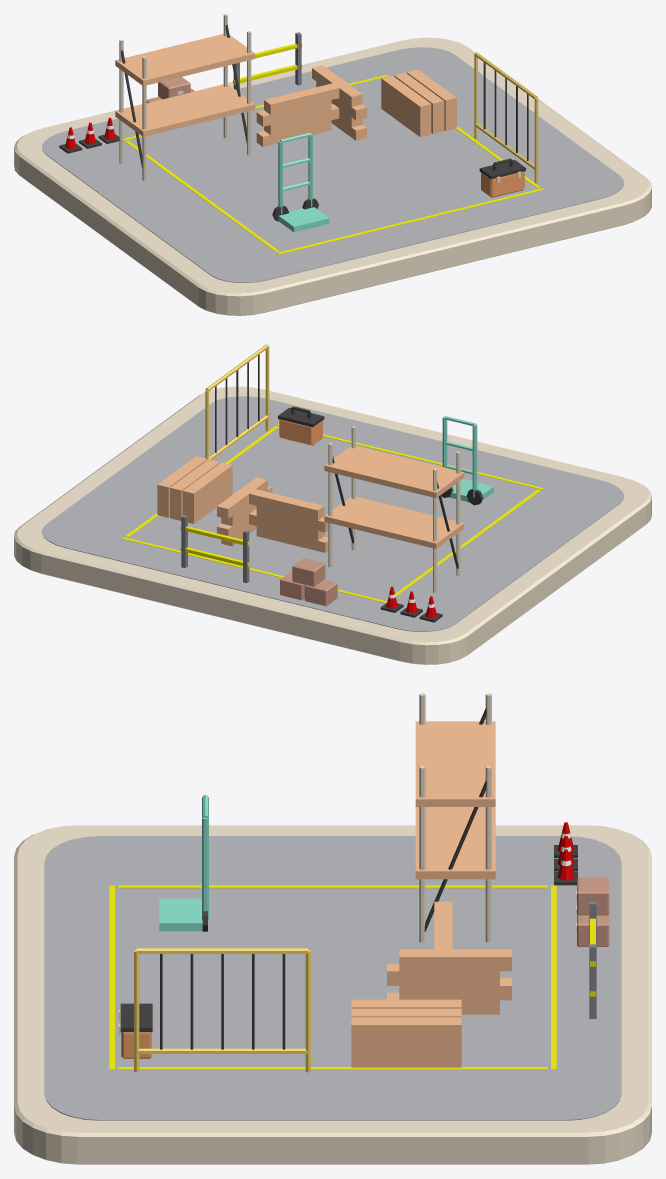
3 renders of one model, top to bottom at view 1: azimuth 30°, elevation 25°; view 2: azimuth 150°, elevation 25°; view 3: azimuth 270°, elevation 25°, orthographic. The views are drawn at different scales.
Visible parts, largest first — view 1: COM-02 Floor Surface, COM-01 Rounded Base Direct, Platform.001, Platform, Timber.006, Loading plate, Box, Work zone end, Timber.007, Timber.008, Work zone stripe, Upright.002 (+6 smaller); view 2: COM-02 Floor Surface, COM-01 Rounded Base Direct, Platform.001, Platform, Timber.006, Box, Stacked case.002, Stacked case, Timber.007, Timber.008, Work zone stripe, Work zone end.001 (+9 smaller); view 3: COM-02 Floor Surface, COM-01 Rounded Base Direct, Platform.001, Platform, Timber.008, Timber.005, Work zone stripe, Timber.002, Loading plate, Work zone stripe.001, Stacked case.002, Timber.006 (+15 smaller).
Part boxes in pixels (bbox=[...]): COM-02 Floor Surface: bbox=[42, 47, 623, 282]; COM-01 Rounded Base Direct: bbox=[14, 37, 651, 315]; Platform.001: bbox=[115, 34, 255, 85]; Platform: bbox=[115, 84, 255, 136]; Timber.006: bbox=[381, 75, 431, 116]; Loading plate: bbox=[278, 207, 329, 232]; Box: bbox=[481, 171, 524, 197]; Work zone end: bbox=[277, 188, 543, 254]; Timber.007: bbox=[394, 72, 444, 113]; Timber.008: bbox=[407, 69, 456, 110]; Work zone stripe: bbox=[125, 140, 279, 252]; Upright.002: bbox=[247, 31, 251, 155]; COM-02 Floor Surface: bbox=[42, 396, 623, 631]; COM-01 Rounded Base Direct: bbox=[14, 386, 651, 664]; Platform.001: bbox=[324, 446, 464, 498]; Platform: bbox=[324, 496, 464, 548]; Timber.006: bbox=[182, 462, 232, 503]; Box: bbox=[279, 419, 322, 445]; Stacked case.002: bbox=[292, 558, 325, 586]; Stacked case: bbox=[304, 579, 337, 606]; Timber.007: bbox=[170, 459, 219, 500]; Timber.008: bbox=[157, 456, 207, 497]; Work zone stripe: bbox=[387, 489, 540, 600]; Work zone end.001: bbox=[122, 537, 387, 603]; COM-02 Floor Surface: bbox=[44, 836, 621, 1120]; COM-01 Rounded Base Direct: bbox=[14, 825, 651, 1164]; Platform.001: bbox=[415, 721, 495, 806]; Platform: bbox=[415, 807, 495, 879]; Timber.008: bbox=[351, 1017, 461, 1039]; Timber.005: bbox=[351, 1039, 461, 1053]; Work zone stripe: bbox=[118, 885, 547, 888]; Timber.002: bbox=[351, 1054, 461, 1067]; Loading plate: bbox=[159, 898, 202, 931]; Work zone stripe.001: bbox=[118, 1067, 547, 1069]; Stacked case.002: bbox=[577, 877, 609, 915]; Timber.006: bbox=[351, 999, 461, 1008].
Size of the model in its own units: 6 by 1.87 by 5.2.
Materials: 1 (1 with a texture image).
